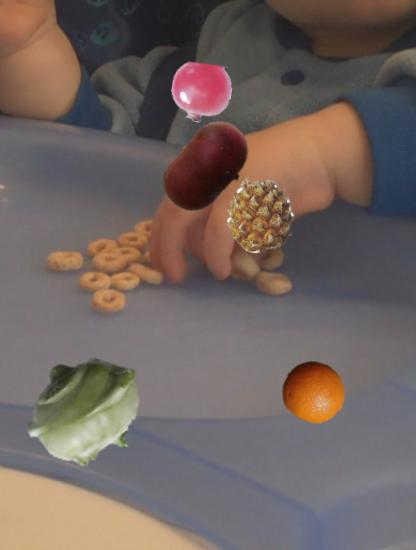Kohlrabi: (24, 346, 151, 473)
Nectarine: (156, 116, 256, 216)
Orange: (282, 360, 346, 424)
Pineapple: (222, 177, 299, 254)
Redcurrant: (171, 62, 232, 123)
